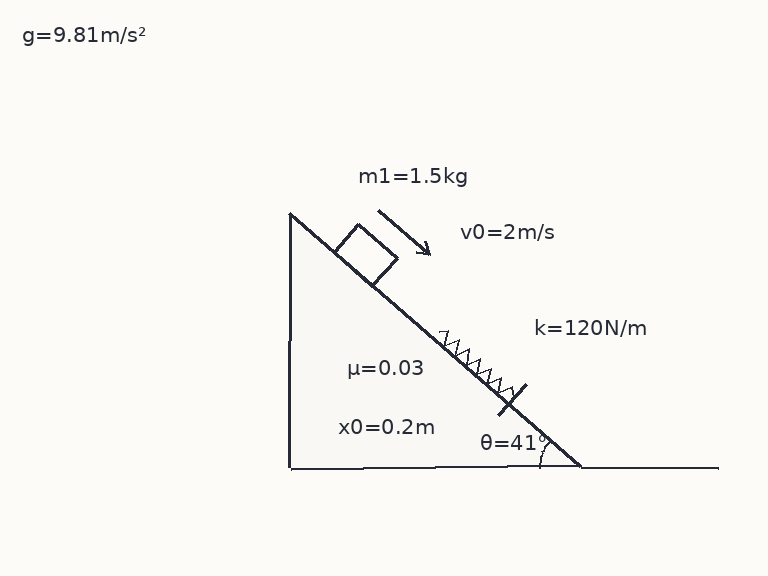block: (331, 222, 398, 288)
ramp: (288, 213, 582, 469)
spring: (436, 329, 515, 399)
